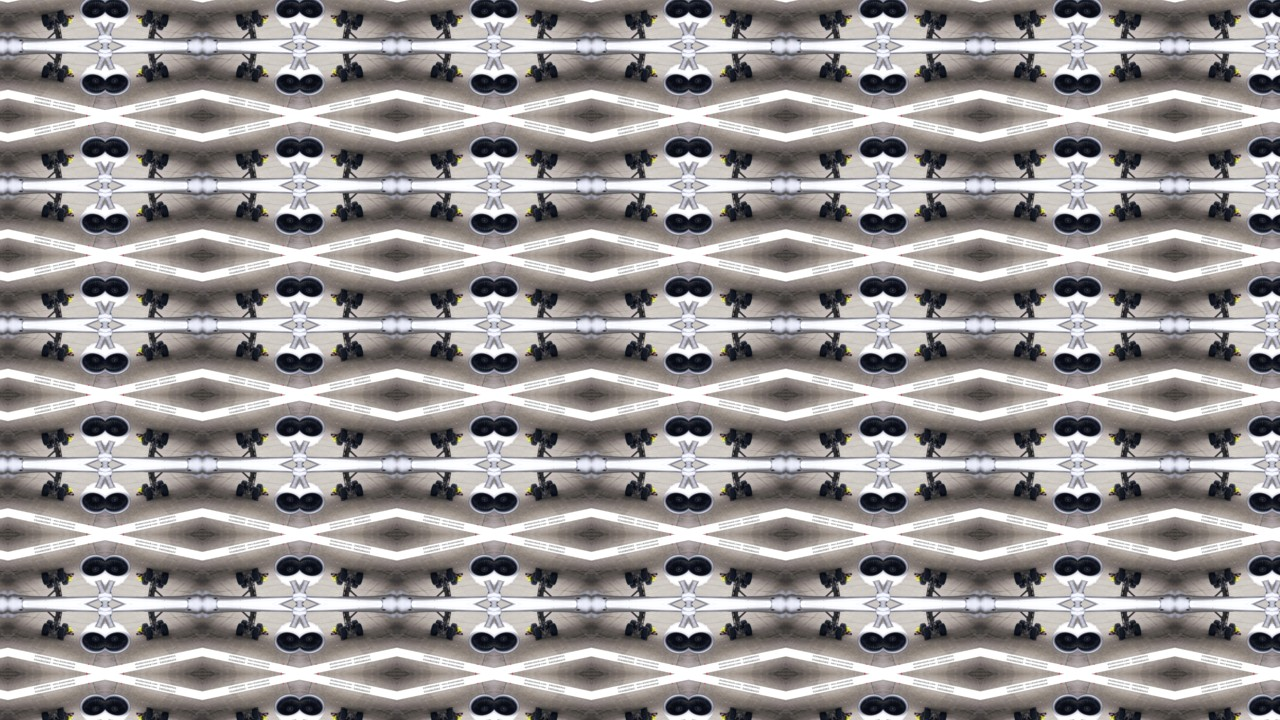chock: (144, 8, 150, 11), (339, 8, 345, 11), (534, 8, 540, 11), (729, 8, 735, 11), (924, 8, 930, 11), (1119, 8, 1125, 11), (144, 79, 150, 82), (339, 79, 345, 82), (534, 79, 540, 82), (729, 79, 735, 82), (924, 79, 930, 82), (1119, 79, 1125, 82), (144, 148, 150, 151), (339, 148, 345, 151), (534, 148, 540, 151), (729, 148, 735, 151), (924, 148, 930, 151), (1119, 148, 1125, 151), (144, 219, 150, 222), (339, 219, 345, 222), (534, 219, 540, 222), (729, 219, 735, 222), (924, 219, 930, 222), (1119, 219, 1125, 222), (144, 288, 150, 291), (339, 288, 345, 291), (534, 288, 540, 291), (729, 288, 735, 291), (924, 288, 930, 291), (1119, 288, 1125, 291), (144, 359, 150, 362), (339, 359, 345, 362), (534, 359, 540, 362), (729, 359, 735, 362), (924, 359, 930, 362), (1119, 359, 1125, 362), (144, 428, 150, 431), (339, 428, 345, 431), (534, 428, 540, 431), (729, 428, 735, 431), (924, 428, 930, 431), (1119, 428, 1125, 431), (144, 499, 150, 502), (339, 499, 345, 502), (534, 499, 540, 502), (729, 499, 735, 502), (924, 499, 930, 502), (1119, 499, 1125, 502), (144, 568, 150, 571), (339, 568, 345, 571), (534, 568, 540, 571), (729, 568, 735, 571), (924, 568, 930, 571), (1119, 568, 1125, 571), (144, 639, 150, 642), (339, 639, 345, 642), (534, 639, 540, 642), (729, 639, 735, 642), (924, 639, 930, 642), (1119, 639, 1125, 642), (144, 708, 150, 711), (339, 708, 345, 711), (534, 708, 540, 711), (729, 708, 735, 711), (924, 708, 930, 711), (1119, 708, 1125, 711), (58, 8, 63, 11), (253, 8, 258, 11), (448, 8, 453, 11), (643, 8, 648, 11), (838, 8, 843, 11), (1033, 8, 1038, 11), (1228, 8, 1233, 11), (58, 79, 63, 82), (253, 79, 258, 82), (448, 79, 453, 82), (643, 79, 648, 82), (838, 79, 843, 82), (1033, 79, 1038, 82), (1228, 79, 1233, 82), (58, 148, 63, 151), (253, 148, 258, 151), (448, 148, 453, 151), (643, 148, 648, 151), (838, 148, 843, 151), (1033, 148, 1038, 151), (1228, 148, 1233, 151), (58, 219, 63, 222), (253, 219, 258, 222), (448, 219, 453, 222), (643, 219, 648, 222), (838, 219, 843, 222), (1033, 219, 1038, 222), (1228, 219, 1233, 222), (58, 288, 63, 291), (253, 288, 258, 291), (448, 288, 453, 291), (643, 288, 648, 291), (838, 288, 843, 291), (1033, 288, 1038, 291), (1228, 288, 1233, 291), (58, 359, 63, 362), (253, 359, 258, 362), (448, 359, 453, 362), (643, 359, 648, 362), (838, 359, 843, 362), (1033, 359, 1038, 362), (1228, 359, 1233, 362), (58, 428, 63, 431), (253, 428, 258, 431), (448, 428, 453, 431), (643, 428, 648, 431), (838, 428, 843, 431), (1033, 428, 1038, 431), (1228, 428, 1233, 431), (58, 499, 63, 502), (253, 499, 258, 502), (448, 499, 453, 502), (643, 499, 648, 502), (838, 499, 843, 502), (1033, 499, 1038, 502), (1228, 499, 1233, 502), (58, 568, 63, 571), (253, 568, 258, 571), (448, 568, 453, 571), (643, 568, 648, 571), (838, 568, 843, 571), (1033, 568, 1038, 571), (1228, 568, 1233, 571), (58, 639, 63, 642), (253, 639, 258, 642), (448, 639, 453, 642), (643, 639, 648, 642), (838, 639, 843, 642), (1033, 639, 1038, 642), (1228, 639, 1233, 642), (58, 708, 63, 711), (253, 708, 258, 711), (448, 708, 453, 711), (643, 708, 648, 711), (838, 708, 843, 711), (1033, 708, 1038, 711), (1228, 708, 1233, 711)
wheel: (142, 9, 152, 24), (337, 9, 347, 24), (532, 9, 542, 24), (727, 9, 737, 24), (922, 9, 932, 24), (1117, 9, 1127, 24), (142, 66, 152, 81), (337, 66, 347, 81), (532, 66, 542, 81), (727, 66, 737, 81), (922, 66, 932, 81), (1117, 66, 1127, 81), (142, 149, 152, 164), (337, 149, 347, 164), (532, 149, 542, 164), (727, 149, 737, 164), (922, 149, 932, 164), (1117, 149, 1127, 164), (142, 206, 152, 221), (337, 206, 347, 221), (532, 206, 542, 221), (727, 206, 737, 221), (922, 206, 932, 221), (1117, 206, 1127, 221), (142, 289, 152, 304), (337, 289, 347, 304), (532, 289, 542, 304), (727, 289, 737, 304), (922, 289, 932, 304), (1117, 289, 1127, 304), (142, 346, 152, 361), (337, 346, 347, 361), (532, 346, 542, 361), (727, 346, 737, 361), (922, 346, 932, 361), (1117, 346, 1127, 361), (142, 429, 152, 444), (337, 429, 347, 444), (532, 429, 542, 444), (727, 429, 737, 444), (922, 429, 932, 444), (1117, 429, 1127, 444), (142, 486, 152, 501), (337, 486, 347, 501), (532, 486, 542, 501), (727, 486, 737, 501), (922, 486, 932, 501), (1117, 486, 1127, 501), (142, 569, 152, 584), (337, 569, 347, 584), (532, 569, 542, 584), (727, 569, 737, 584), (922, 569, 932, 584), (1117, 569, 1127, 584), (142, 626, 152, 641), (337, 626, 347, 641), (532, 626, 542, 641), (727, 626, 737, 641), (922, 626, 932, 641), (1117, 626, 1127, 641), (39, 13, 49, 27), (158, 13, 168, 27), (234, 13, 244, 27), (353, 13, 363, 27), (429, 13, 439, 27), (548, 13, 558, 27), (624, 13, 634, 27), (743, 13, 753, 27), (819, 13, 829, 27), (938, 13, 948, 27), (1014, 13, 1024, 27), (1133, 13, 1143, 27), (1209, 13, 1219, 27), (39, 63, 49, 77), (158, 63, 168, 77), (234, 63, 244, 77), (353, 63, 363, 77), (429, 63, 439, 77), (548, 63, 558, 77), (624, 63, 634, 77), (743, 63, 753, 77), (819, 63, 829, 77), (938, 63, 948, 77), (1014, 63, 1024, 77), (1133, 63, 1143, 77), (1209, 63, 1219, 77), (39, 153, 49, 167), (158, 153, 168, 167), (234, 153, 244, 167), (353, 153, 363, 167), (429, 153, 439, 167), (548, 153, 558, 167), (624, 153, 634, 167), (743, 153, 753, 167), (819, 153, 829, 167), (938, 153, 948, 167), (1014, 153, 1024, 167), (1133, 153, 1143, 167), (1209, 153, 1219, 167), (39, 203, 49, 217), (158, 203, 168, 217), (234, 203, 244, 217), (353, 203, 363, 217), (429, 203, 439, 217), (548, 203, 558, 217), (624, 203, 634, 217), (743, 203, 753, 217), (819, 203, 829, 217), (938, 203, 948, 217), (1014, 203, 1024, 217), (1133, 203, 1143, 217), (1209, 203, 1219, 217), (39, 293, 49, 307), (158, 293, 168, 307), (234, 293, 244, 307), (353, 293, 363, 307), (429, 293, 439, 307), (548, 293, 558, 307), (624, 293, 634, 307), (743, 293, 753, 307), (819, 293, 829, 307), (938, 293, 948, 307), (1014, 293, 1024, 307), (1133, 293, 1143, 307), (1209, 293, 1219, 307), (39, 343, 49, 357), (158, 343, 168, 357), (234, 343, 244, 357), (353, 343, 363, 357), (429, 343, 439, 357), (548, 343, 558, 357), (624, 343, 634, 357), (743, 343, 753, 357), (819, 343, 829, 357), (938, 343, 948, 357), (1014, 343, 1024, 357), (1133, 343, 1143, 357), (1209, 343, 1219, 357), (39, 433, 49, 447), (158, 433, 168, 447), (234, 433, 244, 447), (353, 433, 363, 447), (429, 433, 439, 447), (548, 433, 558, 447), (624, 433, 634, 447), (743, 433, 753, 447), (819, 433, 829, 447), (938, 433, 948, 447), (1014, 433, 1024, 447), (1133, 433, 1143, 447), (1209, 433, 1219, 447), (39, 483, 49, 497), (158, 483, 168, 497), (234, 483, 244, 497), (353, 483, 363, 497), (429, 483, 439, 497), (548, 483, 558, 497), (624, 483, 634, 497), (743, 483, 753, 497), (819, 483, 829, 497), (938, 483, 948, 497), (1014, 483, 1024, 497), (1133, 483, 1143, 497), (1209, 483, 1219, 497), (39, 573, 49, 587), (158, 573, 168, 587), (234, 573, 244, 587), (353, 573, 363, 587), (429, 573, 439, 587), (548, 573, 558, 587), (624, 573, 634, 587), (743, 573, 753, 587), (819, 573, 829, 587), (938, 573, 948, 587), (1014, 573, 1024, 587), (1133, 573, 1143, 587), (1209, 573, 1219, 587), (39, 623, 49, 637), (158, 623, 168, 637), (234, 623, 244, 637), (353, 623, 363, 637), (429, 623, 439, 637), (548, 623, 558, 637), (624, 623, 634, 637), (743, 623, 753, 637), (819, 623, 829, 637), (938, 623, 948, 637), (1014, 623, 1024, 637), (1133, 623, 1143, 637), (1209, 623, 1219, 637), (56, 9, 65, 24), (251, 9, 260, 24), (446, 9, 455, 24), (641, 9, 650, 24), (836, 9, 845, 24), (1031, 9, 1040, 24), (1226, 9, 1235, 24), (56, 66, 65, 81), (251, 66, 260, 81), (446, 66, 455, 81), (641, 66, 650, 81), (836, 66, 845, 81), (1031, 66, 1040, 81), (1226, 66, 1235, 81), (56, 149, 65, 164), (251, 149, 260, 164), (446, 149, 455, 164), (641, 149, 650, 164), (836, 149, 845, 164), (1031, 149, 1040, 164), (1226, 149, 1235, 164), (56, 206, 65, 221), (251, 206, 260, 221), (446, 206, 455, 221), (641, 206, 650, 221), (836, 206, 845, 221), (1031, 206, 1040, 221), (1226, 206, 1235, 221), (56, 289, 65, 304), (251, 289, 260, 304), (446, 289, 455, 304), (641, 289, 650, 304), (836, 289, 845, 304), (1031, 289, 1040, 304), (1226, 289, 1235, 304), (56, 346, 65, 361), (251, 346, 260, 361), (446, 346, 455, 361), (641, 346, 650, 361), (836, 346, 845, 361), (1031, 346, 1040, 361), (1226, 346, 1235, 361), (56, 429, 65, 444), (251, 429, 260, 444), (446, 429, 455, 444), (641, 429, 650, 444), (836, 429, 845, 444), (1031, 429, 1040, 444), (1226, 429, 1235, 444), (56, 486, 65, 501), (251, 486, 260, 501), (446, 486, 455, 501), (641, 486, 650, 501), (836, 486, 845, 501), (1031, 486, 1040, 501), (1226, 486, 1235, 501), (56, 569, 65, 584), (251, 569, 260, 584), (446, 569, 455, 584), (641, 569, 650, 584), (836, 569, 845, 584), (1031, 569, 1040, 584), (1226, 569, 1235, 584), (56, 626, 65, 641), (251, 626, 260, 641), (446, 626, 455, 641), (641, 626, 650, 641), (836, 626, 845, 641), (1031, 626, 1040, 641), (1226, 626, 1235, 641), (59, 13, 68, 27), (140, 13, 149, 27), (254, 13, 263, 27), (335, 13, 344, 27), (449, 13, 458, 27), (530, 13, 539, 27), (644, 13, 653, 27), (725, 13, 734, 27), (839, 13, 848, 27), (920, 13, 929, 27), (1034, 13, 1043, 27), (1115, 13, 1124, 27), (1229, 13, 1238, 27), (59, 63, 68, 77), (140, 63, 149, 77), (254, 63, 263, 77), (335, 63, 344, 77), (449, 63, 458, 77), (530, 63, 539, 77), (644, 63, 653, 77), (725, 63, 734, 77), (839, 63, 848, 77), (920, 63, 929, 77), (1034, 63, 1043, 77), (1115, 63, 1124, 77), (1229, 63, 1238, 77), (59, 153, 68, 167), (140, 153, 149, 167), (254, 153, 263, 167), (335, 153, 344, 167), (449, 153, 458, 167), (530, 153, 539, 167), (644, 153, 653, 167), (725, 153, 734, 167), (839, 153, 848, 167), (920, 153, 929, 167), (1034, 153, 1043, 167), (1115, 153, 1124, 167), (1229, 153, 1238, 167), (59, 203, 68, 217), (140, 203, 149, 217), (254, 203, 263, 217), (335, 203, 344, 217), (449, 203, 458, 217), (530, 203, 539, 217), (644, 203, 653, 217), (725, 203, 734, 217), (839, 203, 848, 217), (920, 203, 929, 217), (1034, 203, 1043, 217), (1115, 203, 1124, 217), (1229, 203, 1238, 217), (59, 293, 68, 307), (140, 293, 149, 307), (254, 293, 263, 307), (335, 293, 344, 307), (449, 293, 458, 307), (530, 293, 539, 307), (644, 293, 653, 307), (725, 293, 734, 307), (839, 293, 848, 307), (920, 293, 929, 307), (1034, 293, 1043, 307), (1115, 293, 1124, 307), (1229, 293, 1238, 307), (59, 343, 68, 357), (140, 343, 149, 357), (254, 343, 263, 357), (335, 343, 344, 357), (449, 343, 458, 357), (530, 343, 539, 357), (644, 343, 653, 357), (725, 343, 734, 357), (839, 343, 848, 357), (920, 343, 929, 357), (1034, 343, 1043, 357), (1115, 343, 1124, 357), (1229, 343, 1238, 357), (59, 433, 68, 447), (140, 433, 149, 447), (254, 433, 263, 447), (335, 433, 344, 447), (449, 433, 458, 447), (530, 433, 539, 447), (644, 433, 653, 447), (725, 433, 734, 447), (839, 433, 848, 447), (920, 433, 929, 447), (1034, 433, 1043, 447), (1115, 433, 1124, 447), (1229, 433, 1238, 447), (59, 483, 68, 497), (140, 483, 149, 497), (254, 483, 263, 497), (335, 483, 344, 497), (449, 483, 458, 497), (530, 483, 539, 497), (644, 483, 653, 497), (725, 483, 734, 497), (839, 483, 848, 497), (920, 483, 929, 497), (1034, 483, 1043, 497), (1115, 483, 1124, 497), (1229, 483, 1238, 497), (59, 573, 68, 587), (140, 573, 149, 587), (254, 573, 263, 587), (335, 573, 344, 587), (449, 573, 458, 587), (530, 573, 539, 587), (644, 573, 653, 587), (725, 573, 734, 587), (839, 573, 848, 587), (920, 573, 929, 587), (1034, 573, 1043, 587), (1115, 573, 1124, 587), (1229, 573, 1238, 587), (59, 623, 68, 637), (140, 623, 149, 637), (254, 623, 263, 637), (335, 623, 344, 637), (449, 623, 458, 637), (530, 623, 539, 637), (644, 623, 653, 637), (725, 623, 734, 637), (839, 623, 848, 637), (920, 623, 929, 637), (1034, 623, 1043, 637), (1115, 623, 1124, 637), (1229, 623, 1238, 637), (142, 709, 152, 720), (337, 709, 347, 720), (532, 709, 542, 720), (727, 709, 737, 720), (922, 709, 932, 720), (1117, 709, 1127, 720), (56, 709, 65, 720), (251, 709, 260, 720), (446, 709, 455, 720), (641, 709, 650, 720), (836, 709, 845, 720), (1031, 709, 1040, 720), (1226, 709, 1235, 720), (45, 21, 53, 30), (155, 21, 163, 30), (240, 21, 248, 30), (350, 21, 358, 30), (435, 21, 443, 30), (545, 21, 553, 30), (630, 21, 638, 30), (740, 21, 748, 30), (825, 21, 833, 30), (935, 21, 943, 30), (1020, 21, 1028, 30), (1130, 21, 1138, 30), (1215, 21, 1223, 30), (45, 60, 53, 69), (155, 60, 163, 69), (240, 60, 248, 69), (350, 60, 358, 69), (435, 60, 443, 69), (545, 60, 553, 69), (630, 60, 638, 69), (740, 60, 748, 69), (825, 60, 833, 69), (935, 60, 943, 69), (1020, 60, 1028, 69), (1130, 60, 1138, 69), (1215, 60, 1223, 69), (45, 161, 53, 170), (155, 161, 163, 170), (240, 161, 248, 170), (350, 161, 358, 170), (435, 161, 443, 170), (545, 161, 553, 170), (630, 161, 638, 170), (740, 161, 748, 170), (825, 161, 833, 170), (935, 161, 943, 170), (1020, 161, 1028, 170), (1130, 161, 1138, 170), (1215, 161, 1223, 170), (45, 200, 53, 209), (155, 200, 163, 209), (240, 200, 248, 209), (350, 200, 358, 209), (435, 200, 443, 209), (545, 200, 553, 209), (630, 200, 638, 209), (740, 200, 748, 209), (825, 200, 833, 209), (935, 200, 943, 209), (1020, 200, 1028, 209), (1130, 200, 1138, 209), (1215, 200, 1223, 209), (45, 301, 53, 310), (155, 301, 163, 310), (240, 301, 248, 310), (350, 301, 358, 310), (435, 301, 443, 310), (545, 301, 553, 310), (630, 301, 638, 310), (740, 301, 748, 310), (825, 301, 833, 310), (935, 301, 943, 310), (1020, 301, 1028, 310), (1130, 301, 1138, 310), (1215, 301, 1223, 310), (45, 340, 53, 349), (155, 340, 163, 349), (240, 340, 248, 349), (350, 340, 358, 349), (435, 340, 443, 349), (545, 340, 553, 349), (630, 340, 638, 349), (740, 340, 748, 349), (825, 340, 833, 349), (935, 340, 943, 349), (1020, 340, 1028, 349), (1130, 340, 1138, 349), (1215, 340, 1223, 349), (45, 441, 53, 450), (155, 441, 163, 450), (240, 441, 248, 450), (350, 441, 358, 450), (435, 441, 443, 450), (545, 441, 553, 450), (630, 441, 638, 450), (740, 441, 748, 450), (825, 441, 833, 450), (935, 441, 943, 450), (1020, 441, 1028, 450), (1130, 441, 1138, 450), (1215, 441, 1223, 450), (45, 480, 53, 489), (155, 480, 163, 489), (240, 480, 248, 489), (350, 480, 358, 489), (435, 480, 443, 489), (545, 480, 553, 489), (630, 480, 638, 489), (740, 480, 748, 489), (825, 480, 833, 489), (935, 480, 943, 489), (1020, 480, 1028, 489), (1130, 480, 1138, 489), (1215, 480, 1223, 489), (45, 581, 53, 590), (155, 581, 163, 590), (240, 581, 248, 590), (350, 581, 358, 590), (435, 581, 443, 590), (545, 581, 553, 590), (630, 581, 638, 590), (740, 581, 748, 590), (825, 581, 833, 590), (935, 581, 943, 590), (1020, 581, 1028, 590), (1130, 581, 1138, 590), (1215, 581, 1223, 590), (45, 620, 53, 629), (155, 620, 163, 629), (240, 620, 248, 629), (350, 620, 358, 629), (435, 620, 443, 629), (545, 620, 553, 629), (630, 620, 638, 629), (740, 620, 748, 629), (825, 620, 833, 629), (935, 620, 943, 629), (1020, 620, 1028, 629), (1130, 620, 1138, 629), (1215, 620, 1223, 629), (39, 713, 49, 720), (158, 713, 168, 720), (234, 713, 244, 720), (353, 713, 363, 720), (429, 713, 439, 720), (548, 713, 558, 720), (624, 713, 634, 720), (743, 713, 753, 720), (819, 713, 829, 720), (938, 713, 948, 720), (1014, 713, 1024, 720), (1133, 713, 1143, 720), (1209, 713, 1219, 720), (59, 713, 68, 720), (140, 713, 149, 720), (254, 713, 263, 720), (335, 713, 344, 720), (449, 713, 458, 720), (530, 713, 539, 720), (644, 713, 653, 720), (725, 713, 734, 720), (839, 713, 848, 720), (920, 713, 929, 720), (1034, 713, 1043, 720), (1115, 713, 1124, 720), (1229, 713, 1238, 720)
